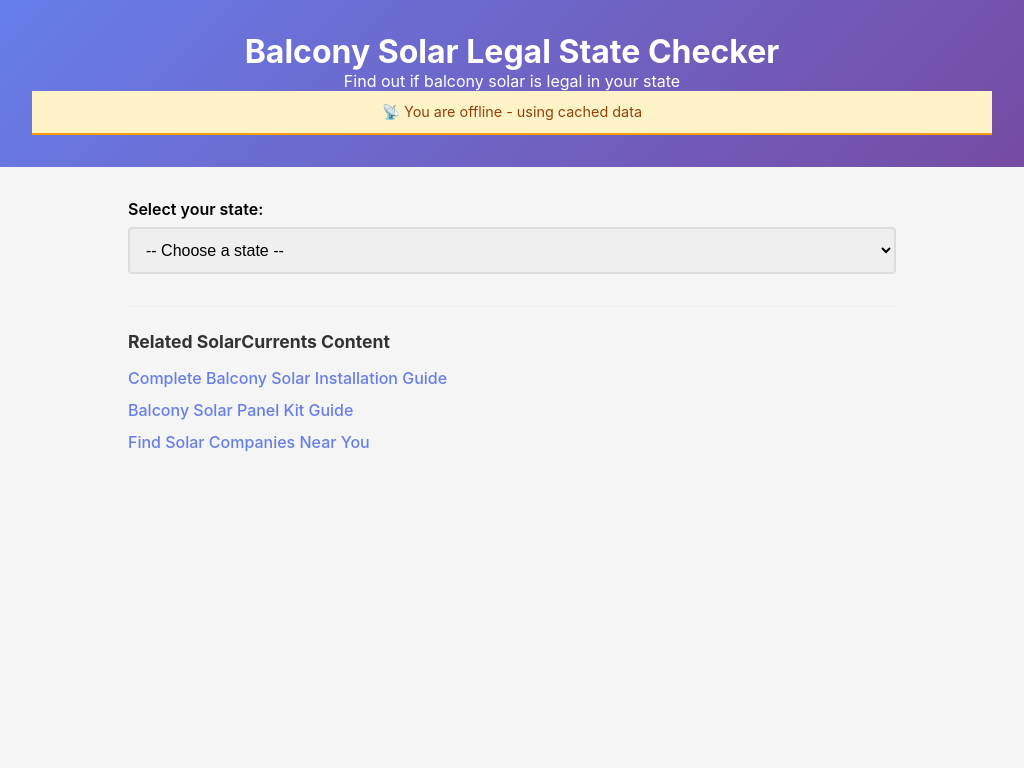
App - Property 10: Iframe Embedding Isolation › component does not pollute global scope
The image size is (1024, 768).
Check: the heading "Balcony Solar Legal State Checker" is shown, box [245,32,779,71]
Note: Verify component works
Select "California" in the dropdown at (512, 250), box [128,227,896,274]
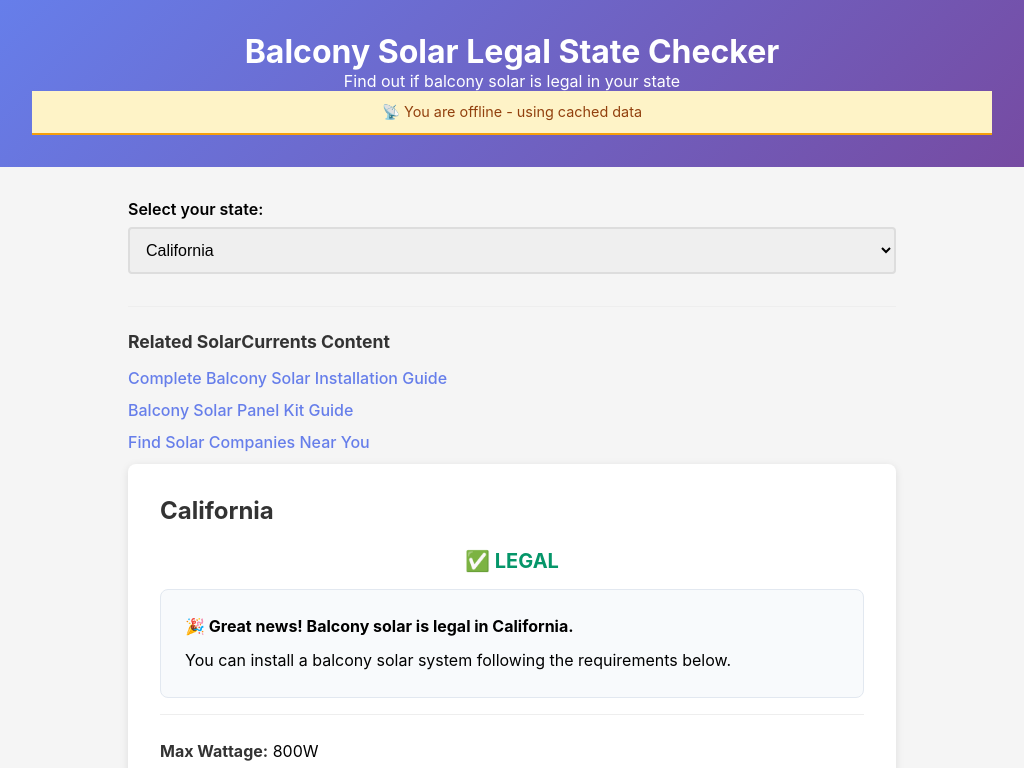
Check: the text "✅ LEGAL" is shown, box [465,549,559,573]
